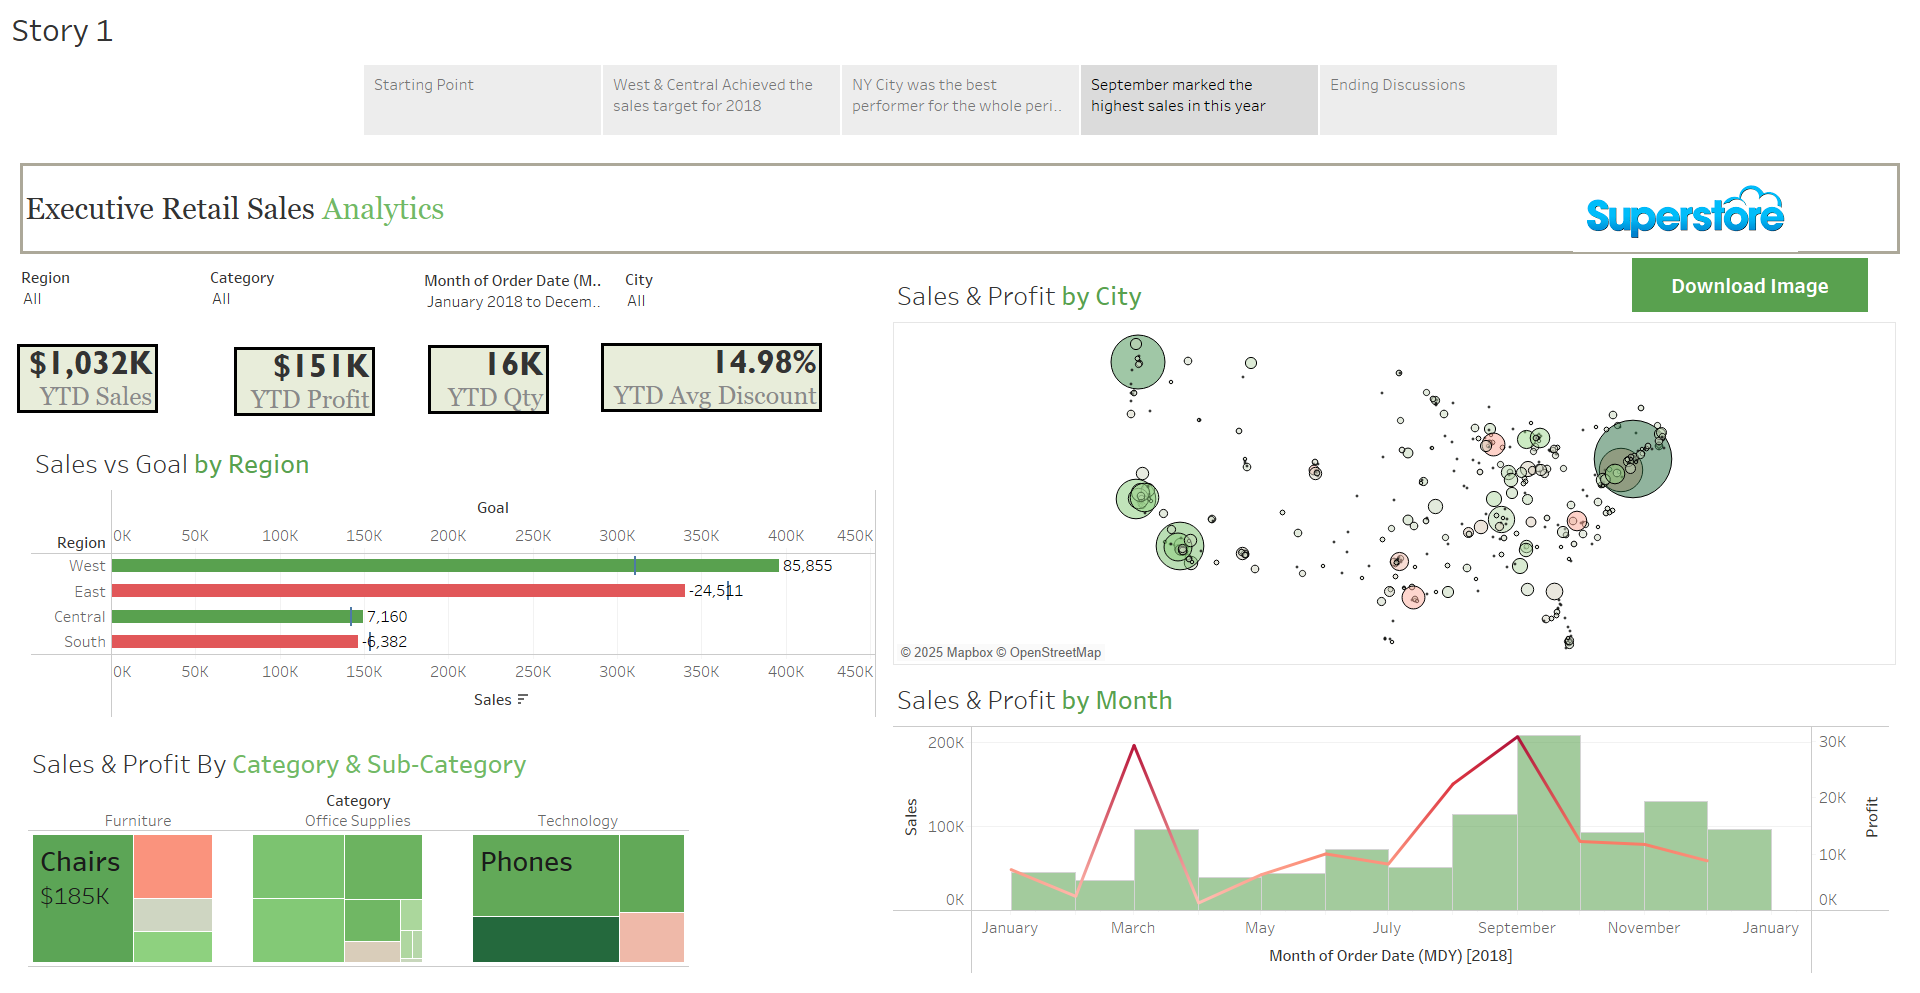

The page's visual inventory and layout, read from the dashboard file:
{"tool":"tableau","page":{"name":"Dashboard 1","canvas":[1000,1000],"units":"permille","ordinal":0},"visuals":[{"type":"title","box":[4.8,10,990.3,123.6]},{"type":"image","param":"Image/t_imh.png","box":[775.5,22.5,210.6,98.6]},{"type":"dashboard-object","box":[852.8,128.6,124.3,64.9]},{"type":"filter","title":"Sheet 2","param":"[federated.1h5nw2a0w27rbx18ib2c70pwjhpy].[none:Region:nk]","box":[6.6,137.3,96.6,79.9]},{"type":"filter","title":"Sheet 3","param":"[federated.1h5nw2a0w27rbx18ib2c70pwjhpy].[none:Category:nk]","box":[106.2,137.3,97.8,83.7]},{"type":"filter","title":"Sheet 5","param":"[federated.1h5nw2a0w27rbx18ib2c70pwjhpy].[none:City:nk]","box":[324.1,139.8,124.3,73.7]},{"type":"filter","title":"Sheet 4","param":"[federated.1h5nw2a0w27rbx18ib2c70pwjhpy].[tmn:Order Date (MDY):qk]","box":[218.5,141.1,96.6,81.2]},{"type":"worksheet","title":"Sheet 5","mark":"Automatic","box":[464.7,144.8,526.9,470.7]},{"type":"worksheet","title":"Sheet 6 (4)","mark":"Automatic","box":[310.8,228.5,135.8,112.4]},{"type":"worksheet","title":"Sheet 6","mark":"Automatic","box":[4.2,229.7,108.6,99.9]},{"type":"worksheet","title":"Sheet 6 (3)","mark":"Automatic","box":[220.3,231,83.3,108.6]},{"type":"worksheet","title":"Sheet 6 (2)","mark":"Automatic","box":[118.3,233.5,89.9,98.6]},{"type":"worksheet","title":"Sheet 2","mark":"Automatic","rows":["Region"],"cols":["Sales","Goal"],"box":[12.1,347.1,443.6,333.3]},{"type":"worksheet","title":"Sheet 4","mark":"Automatic","rows":["Sales","Profit"],"cols":["Order Date (MDY)"],"box":[464.7,629.2,523.8,357.1]},{"type":"worksheet","title":"Sheet 3","mark":"Automatic","cols":["Category"],"box":[10.3,706.6,444.2,273.4]}]}

Visuals, with their boxes on the dashboard's canvas, which has no fixed pixel size, in thousandths of its width and height (x1, y1, x2, y2). These are canvas units, not pixel positions in the 1920x993 screenshot, which may show the page scaled, cropped or inside an application window:
title: box(5, 10, 995, 134)
image: box(776, 22, 986, 121)
dashboard-object: box(853, 129, 977, 194)
"Sheet 2" filter: box(7, 137, 103, 217)
"Sheet 3" filter: box(106, 137, 204, 221)
"Sheet 5" filter: box(324, 140, 448, 214)
"Sheet 4" filter: box(218, 141, 315, 222)
"Sheet 5" worksheet: box(465, 145, 992, 616)
"Sheet 6 (4)" worksheet: box(311, 228, 447, 341)
"Sheet 6" worksheet: box(4, 230, 113, 330)
"Sheet 6 (3)" worksheet: box(220, 231, 304, 340)
"Sheet 6 (2)" worksheet: box(118, 234, 208, 332)
"Sheet 2" worksheet: box(12, 347, 456, 680)
"Sheet 4" worksheet: box(465, 629, 988, 986)
"Sheet 3" worksheet: box(10, 707, 454, 980)
